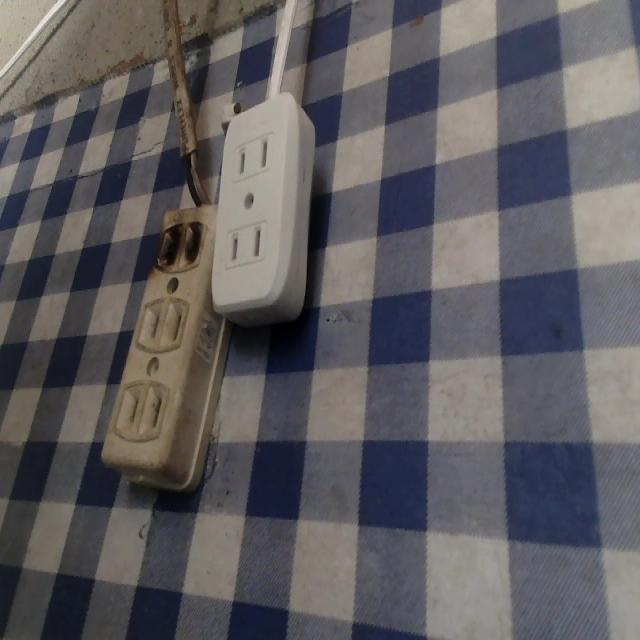-: (153, 213, 210, 271)
